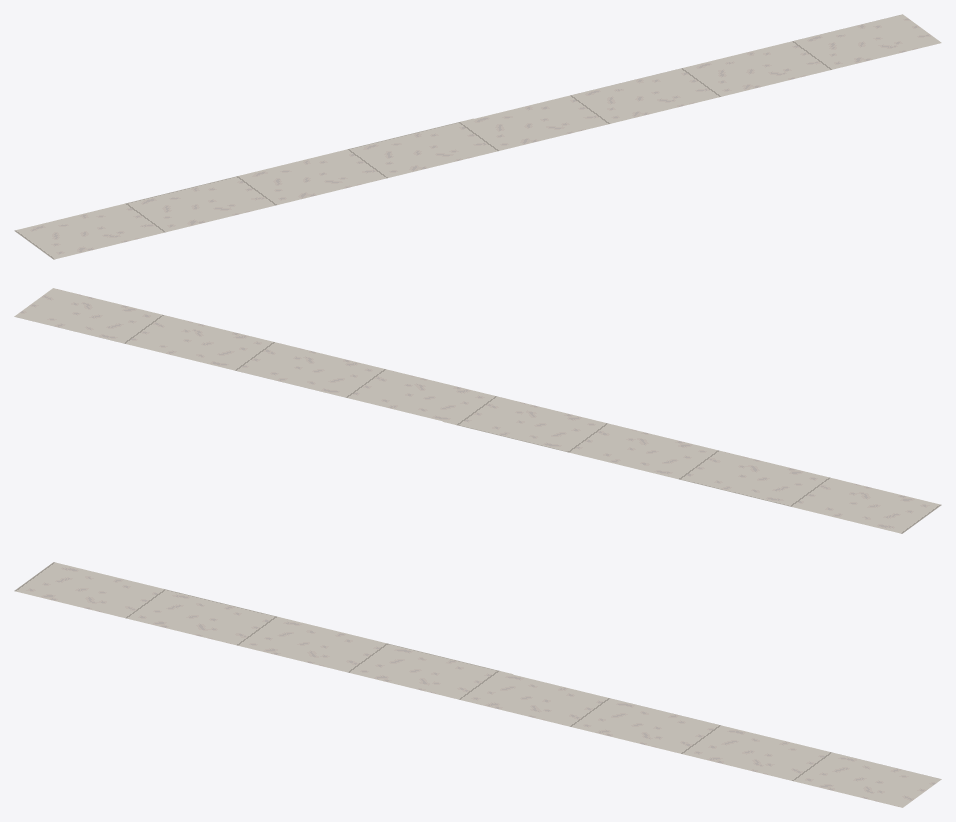
Rendered from kd_stage_135c43_4_31_bounded.glb.
3 renders of one model, top to bottom at view 1: azimuth 30°, elevation 25°; view 2: azimuth 150°, elevation 25°; view 3: azimuth 330°, elevation 25°, orthographic.
Visible parts, largest first — view 1: kd_stage_135c43_4_31_bounded; view 2: kd_stage_135c43_4_31_bounded; view 3: kd_stage_135c43_4_31_bounded.
Part boxes in pixels (<box>): kd_stage_135c43_4_31_bounded: <box>14,14,941,259</box>; kd_stage_135c43_4_31_bounded: <box>14,288,941,533</box>; kd_stage_135c43_4_31_bounded: <box>14,562,941,807</box>.
Size of the model in its own units: 4.5 by 0 by 0.3484.
1 material, 1 textured.
